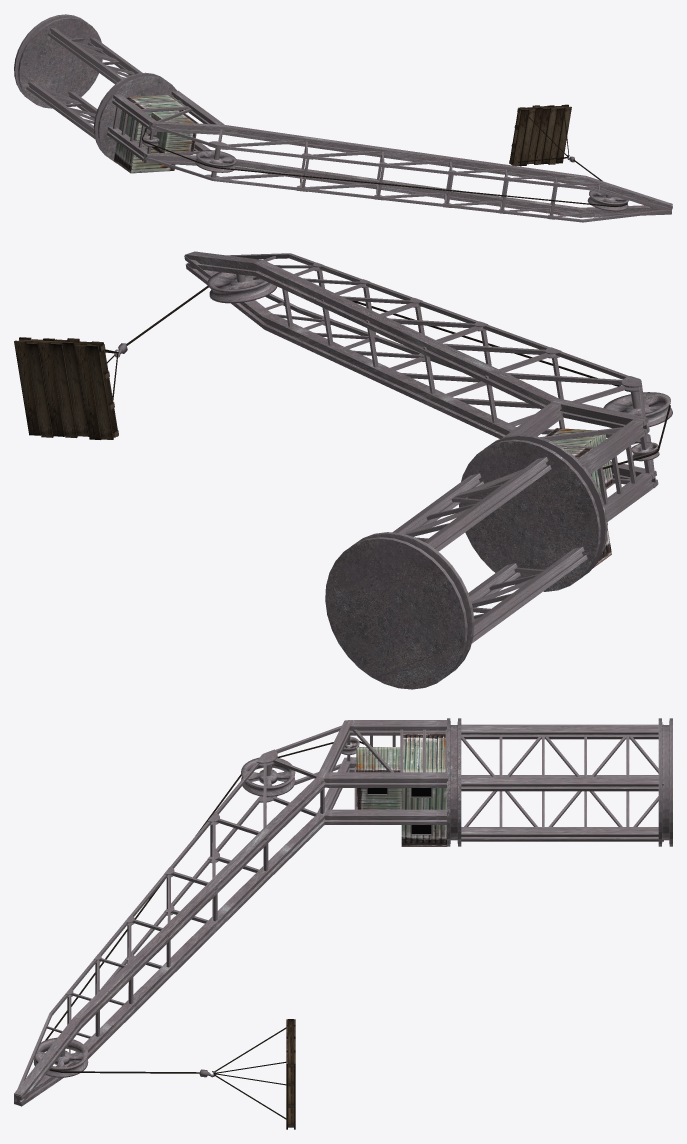
Rendered from dock_crane.glb.
3 views of the same model, one above another, from view 1: azimuth 30°, elevation 25°; view 2: azimuth 150°, elevation 25°; view 3: azimuth 270°, elevation 25° (orthographic). The views are drawn at different scales.
Visible parts, largest first — view 1: dock_crane; view 2: dock_crane; view 3: dock_crane.
Part boxes in pixels (x1,y1,x2,y2): dock_crane: [14, 14, 672, 222]; dock_crane: [14, 251, 672, 689]; dock_crane: [14, 718, 672, 1129].
Size of the model in its own units: 11.54 by 3.44 by 12.
Materials: 5 (3 with a texture image).
